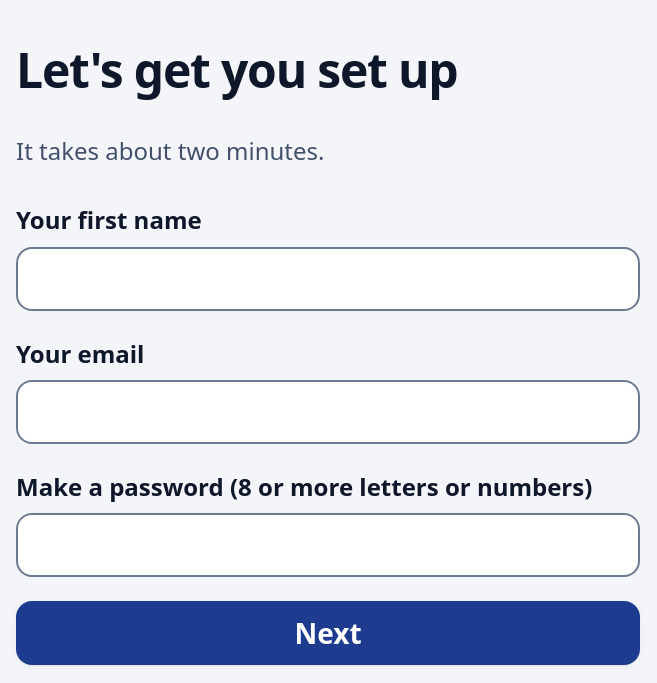
it: kid onboarding › shows a plain message when sign-up fails, and clears it when switching to sign in
In the field labelled "Your first name": (328, 279) [16,247,640,311], type "Lucas"
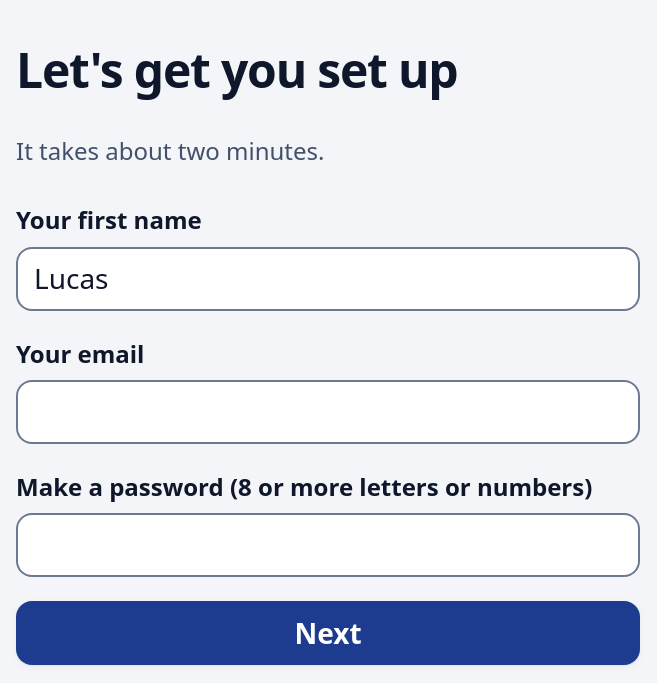
In the field labelled "Your email": (328, 412) [16,380,640,444], type "lucas@example.com"
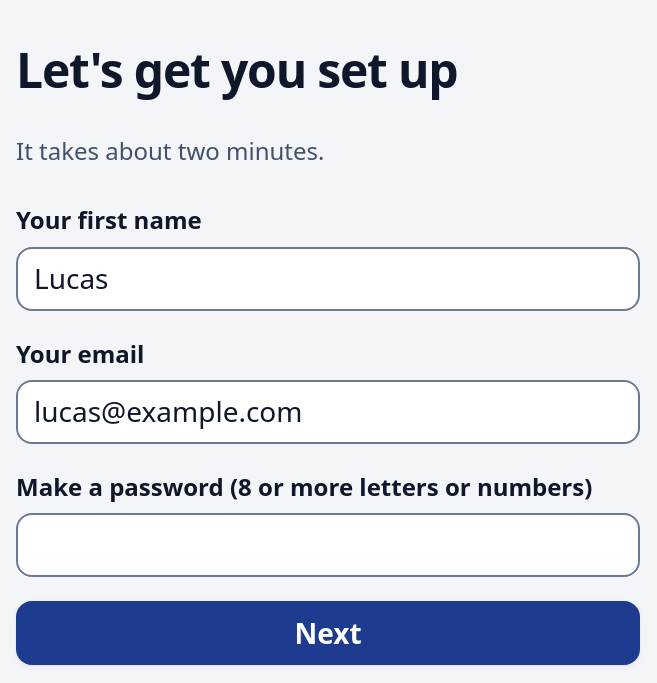
In the password field labelled "Make a password (8 or more letters or numbers)": (328, 545) [16,513,640,577], type "longenough"
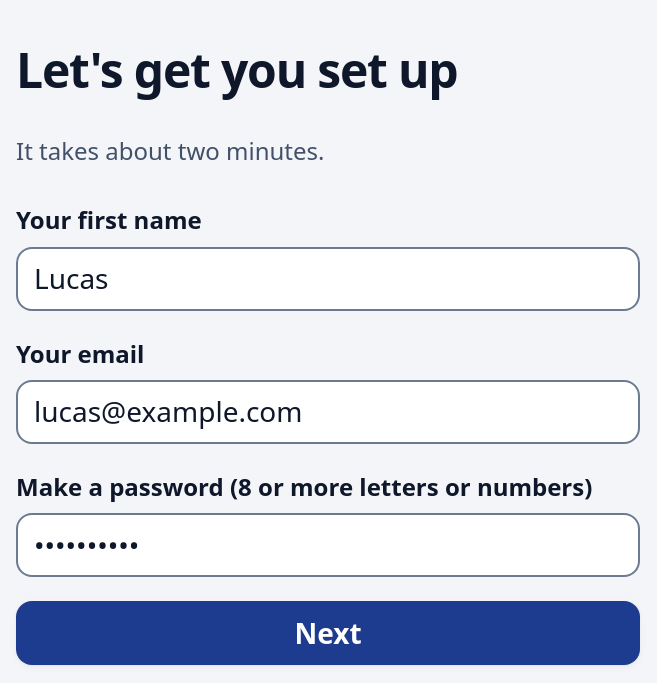
Click the button "Next": (328, 633) [16,601,640,665]
(page scrolled)
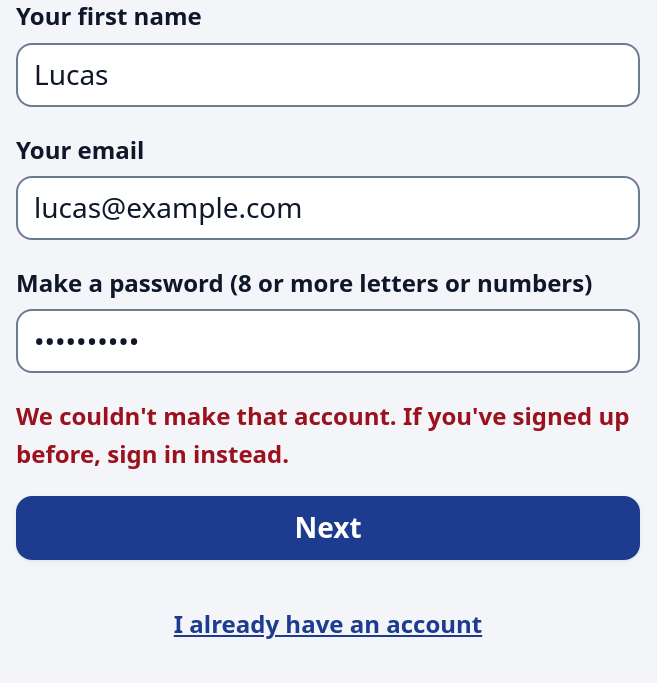
Expected: the message shows "sign in instead", [16,399,629,470]
Click the button "I already have an account": (328, 624) [16,592,640,656]
(page scrolled)
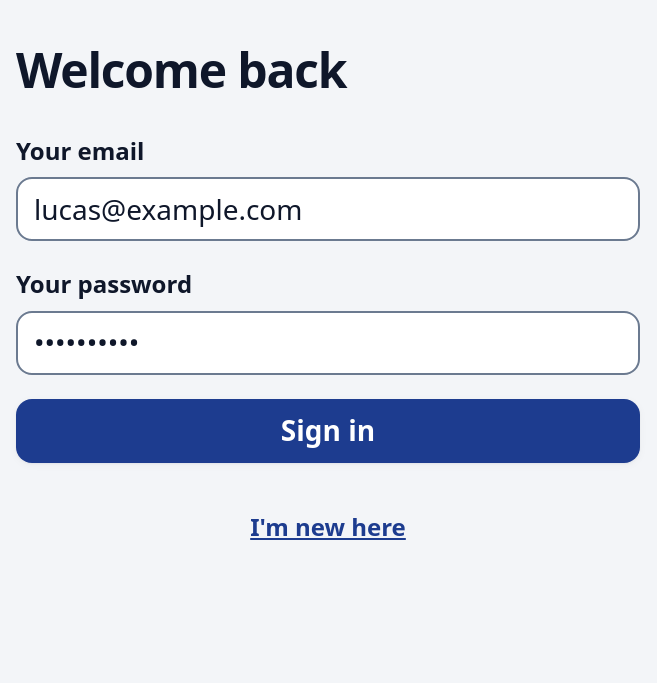
Expected: the message "We couldn't make that account. If you've signed up before, sign in instead." is gone
